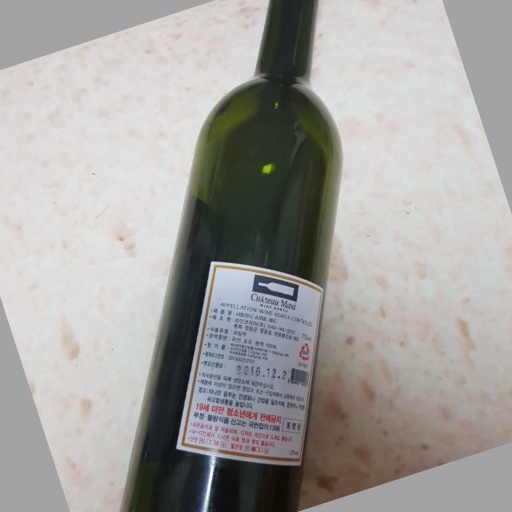Glass_2: (117, 1, 340, 512)
